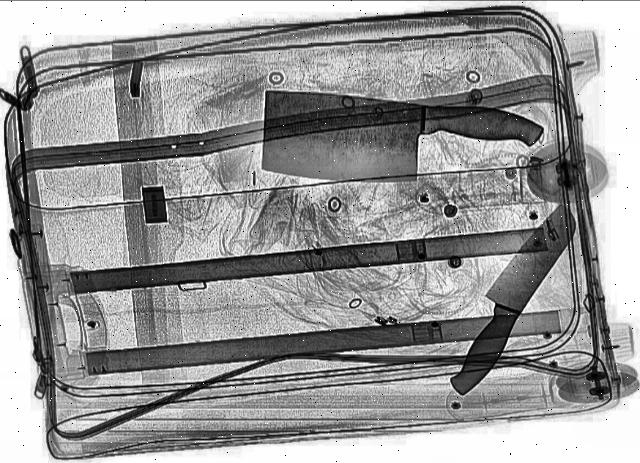Knife: (426, 192, 594, 404), (256, 80, 548, 186)
